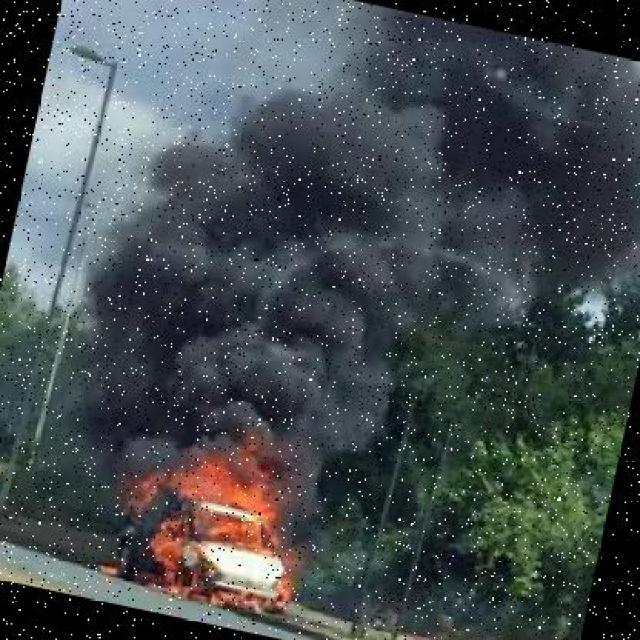fire: (95, 404, 332, 628)
